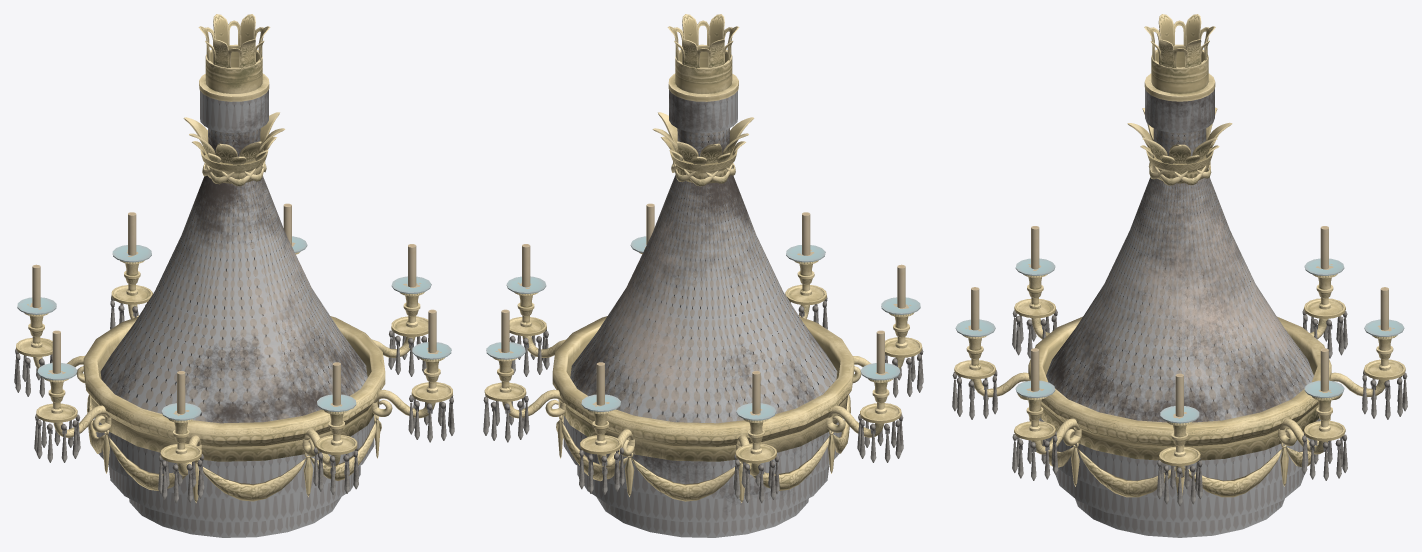
Rendered from SM_LusteBossRoom.fbx.
The picture shows the model from 3 angles, left to right: view 1: azimuth 30°, elevation 25°; view 2: azimuth 150°, elevation 25°; view 3: azimuth 270°, elevation 25°; orthographic projection.
Parts seen in each view (by area): view 1: SM_LusteBossRoom; view 2: SM_LusteBossRoom; view 3: SM_LusteBossRoom.
Part boxes in pixels (x1,y1,x2,y2): SM_LusteBossRoom: (14,14,454,537); SM_LusteBossRoom: (483,14,923,537); SM_LusteBossRoom: (952,14,1407,537).
Size of the model in its own units: 0.5635 by 0.5635 by 0.6668.
